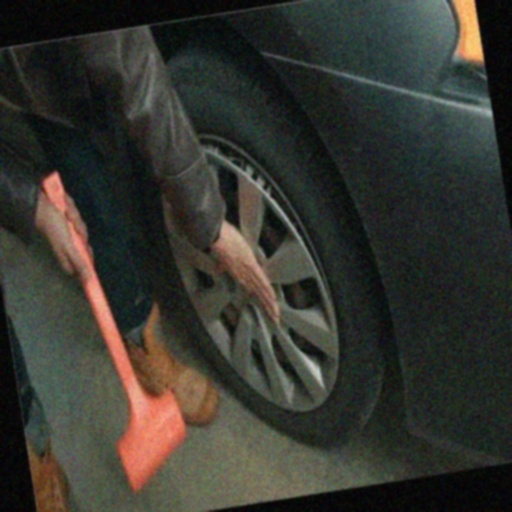mallet: (40, 156, 196, 500)
